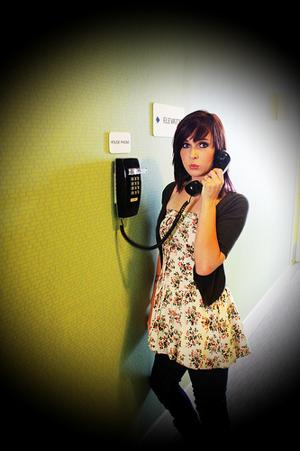person: (145, 112, 250, 442)
